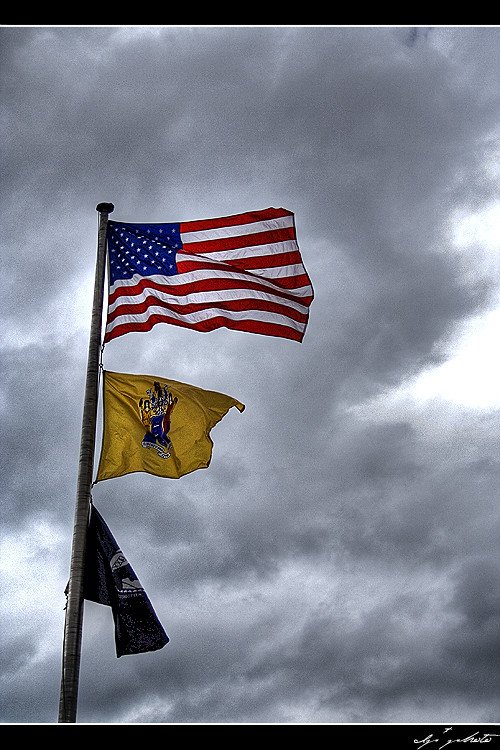America flag: (103, 210, 315, 349)
